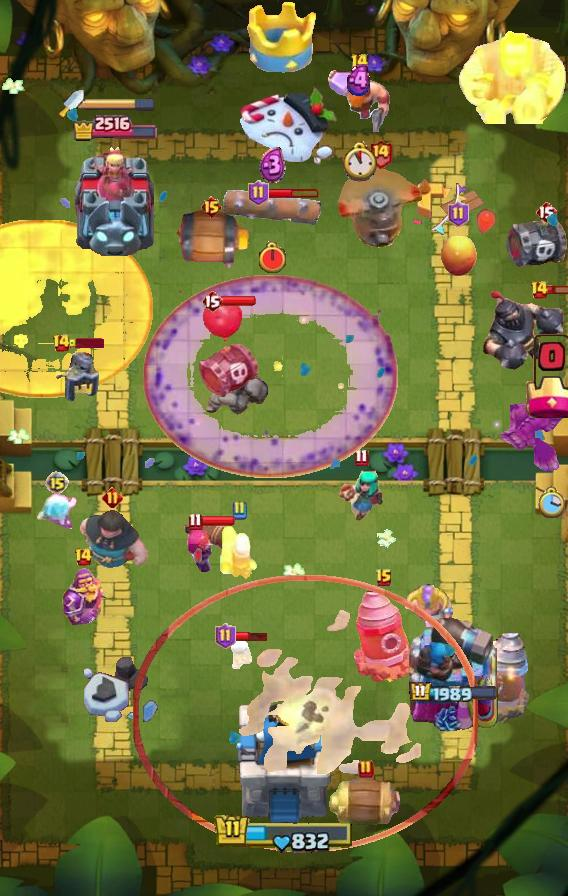bar: (70, 142, 158, 256)
bat: (35, 493, 79, 529)
clock: (214, 814, 354, 855)
dark-prince: (338, 166, 422, 254)
electro-spirit: (258, 147, 285, 185), (345, 64, 375, 97)
elixir: (341, 142, 380, 183), (256, 241, 287, 275), (537, 486, 565, 520)
emote: (268, 187, 321, 199), (221, 295, 257, 307), (200, 515, 236, 527), (233, 630, 269, 641), (68, 338, 104, 348), (546, 285, 568, 296)
firecracker-evolution: (61, 567, 106, 626)
giant-skeleton: (458, 30, 568, 124)
goblin-giant: (403, 584, 453, 627)
golden-knight: (492, 390, 568, 472)
heal-spirit: (228, 639, 254, 671)
hog: (439, 230, 477, 278)
king-tower: (235, 703, 333, 826)
king-tower-bar: (84, 97, 156, 111)
magic-archer: (354, 589, 414, 683), (470, 632, 530, 724)
mega-minion: (175, 517, 243, 573)
mighty-miner: (327, 63, 391, 133)
minion: (223, 190, 321, 226)
phoenix-egg: (1, 220, 155, 398)
princess: (52, 341, 102, 405)
rocket: (142, 274, 398, 478)
royal-ghost: (133, 575, 478, 853)
royal-guardian: (480, 288, 568, 374)
royal-hog: (73, 509, 151, 573)
royal-recruit-evolution: (196, 297, 262, 401), (506, 214, 568, 270)
selected: (70, 113, 157, 142), (410, 681, 499, 705)
text: (367, 139, 392, 169), (45, 471, 69, 495), (447, 201, 469, 227), (200, 195, 223, 219), (247, 180, 268, 206), (215, 623, 236, 649), (535, 200, 557, 224), (201, 289, 223, 313), (101, 488, 122, 509), (52, 333, 72, 353), (351, 53, 370, 73), (530, 280, 549, 300), (74, 547, 93, 567), (375, 568, 393, 588), (231, 500, 247, 520), (358, 759, 374, 779), (188, 512, 203, 531), (355, 449, 369, 468)
the-log: (171, 210, 251, 270), (328, 779, 404, 829)
tombstone: (218, 523, 260, 581)
tower-bar: (407, 611, 499, 731)
valkyrie-evolution: (202, 359, 268, 421)
witch: (338, 470, 384, 524)
